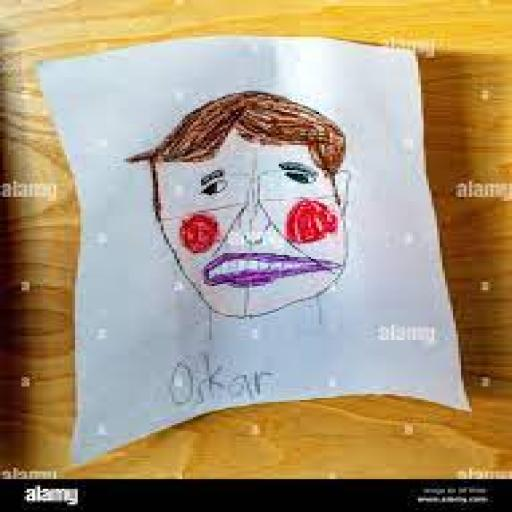person: (118, 79, 386, 345)
